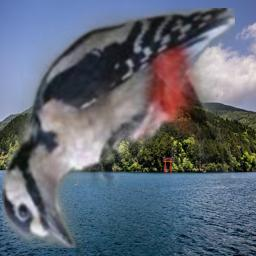Woodpecker: (2, 8, 235, 248)
